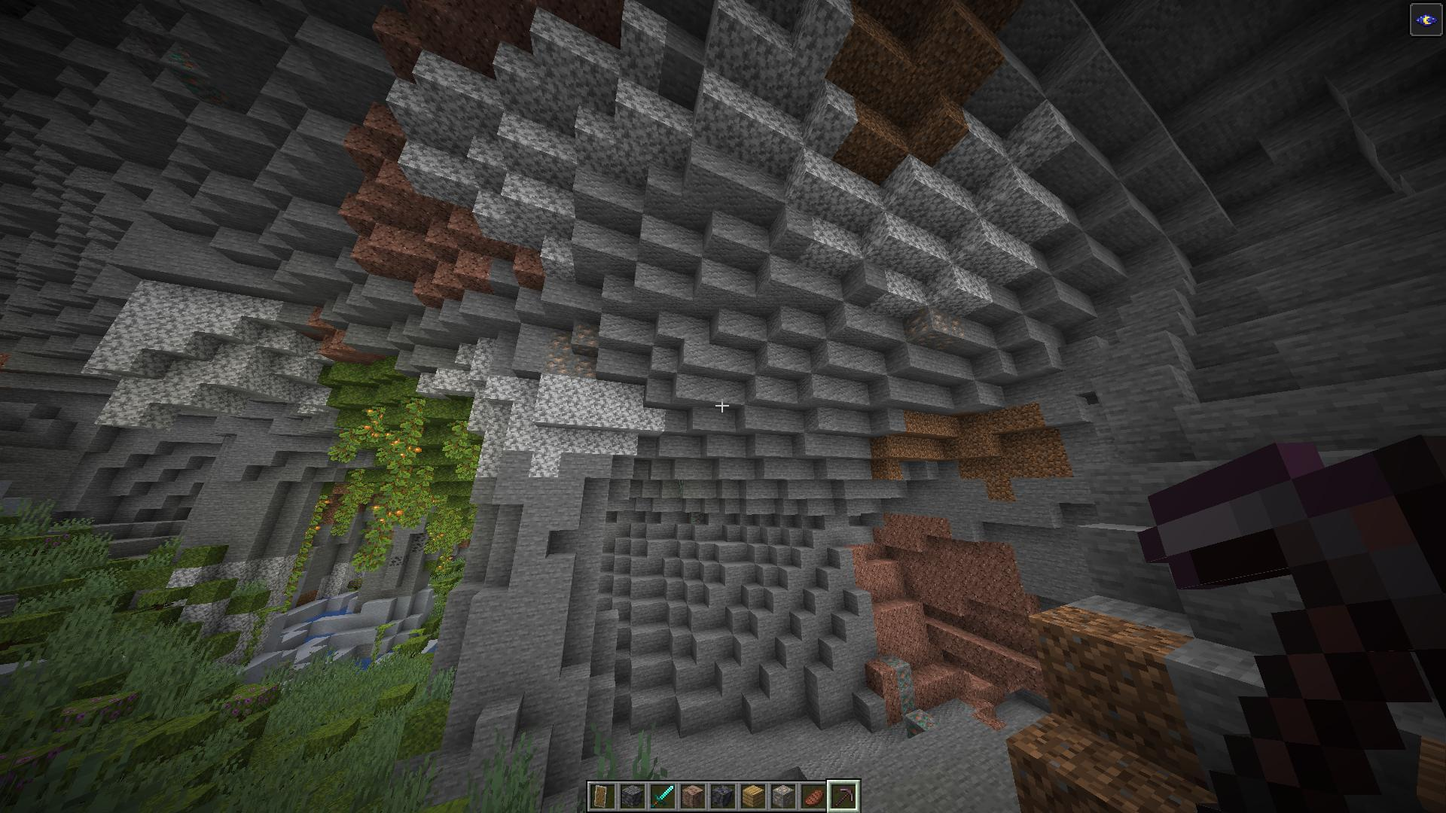iron ore: (536, 320, 600, 377), (904, 307, 963, 349)
